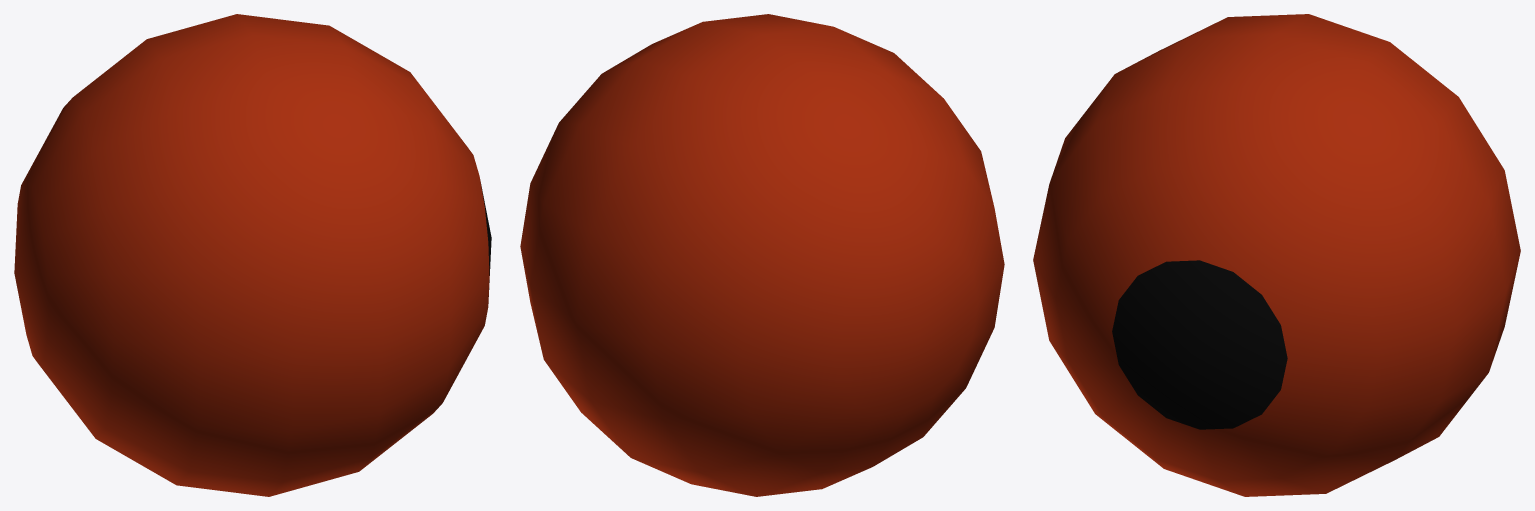
The model's file is rooster_eye.obj.
3 views of the same model, side by side, from view 1: azimuth 30°, elevation 25°; view 2: azimuth 150°, elevation 25°; view 3: azimuth 270°, elevation 25° (orthographic).
Visible parts, largest first — view 1: eye; view 2: eye; view 3: eye.
Boxes of the visible parts, x1,y1,x2,y2 form: eye: (14, 14, 491, 496); eye: (520, 14, 1004, 496); eye: (1033, 14, 1520, 496).
Bounding box in the file's own units: 0.00982 × 0.00984 × 0.00982.
